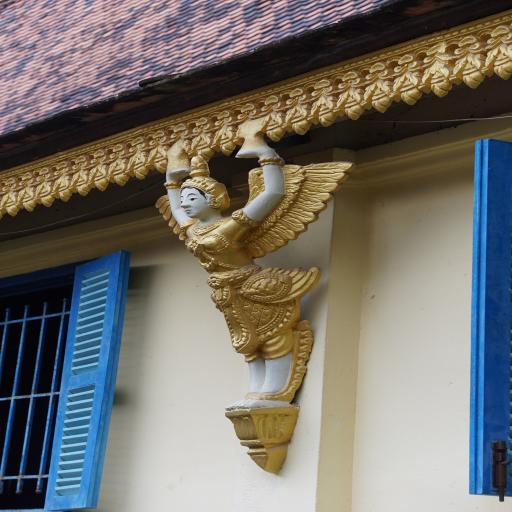la: (456, 36, 486, 90), (338, 71, 368, 122), (366, 63, 396, 114), (424, 50, 455, 98), (397, 52, 424, 107), (312, 79, 340, 127), (490, 24, 512, 81), (286, 92, 312, 136), (216, 114, 243, 154), (111, 146, 137, 187), (262, 100, 287, 142), (194, 120, 218, 160), (53, 164, 77, 202), (74, 156, 95, 196), (130, 140, 150, 179), (0, 178, 22, 213), (93, 151, 112, 190), (150, 133, 169, 172), (19, 174, 37, 212), (37, 171, 54, 205), (171, 127, 191, 140)
than: (166, 158, 354, 410)
